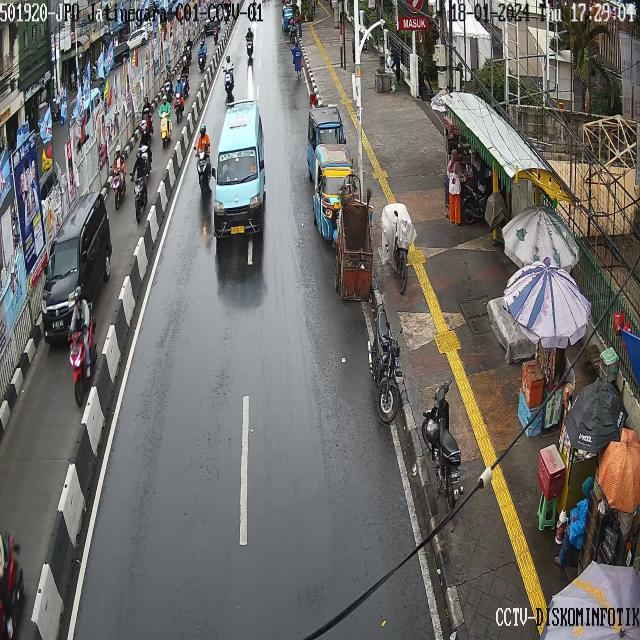Emperan: (519, 350, 575, 441)
Payung: (504, 258, 598, 347), (502, 188, 586, 262)
